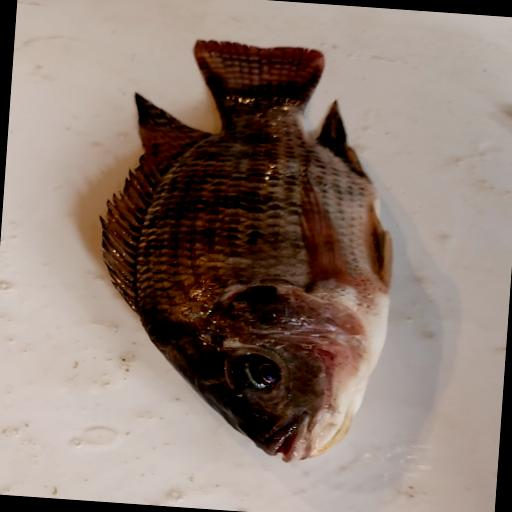Tilapia: (83, 33, 408, 469)
